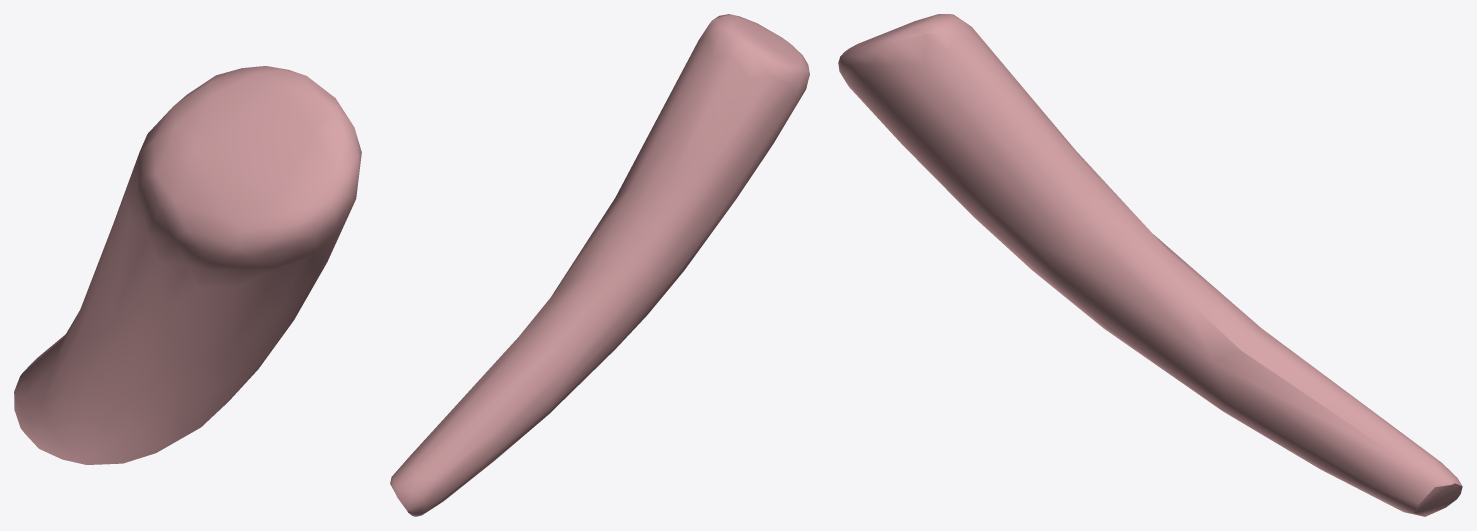
File: fma68220_fj6557.glb
3 renders of one model, left to right at view 1: azimuth 30°, elevation 25°; view 2: azimuth 150°, elevation 25°; view 3: azimuth 270°, elevation 25°, orthographic. The views are drawn at different scales.
Visible parts, largest first — view 1: FMA68220_FJ6557; view 2: FMA68220_FJ6557; view 3: FMA68220_FJ6557.
Part boxes in pixels (<box>): FMA68220_FJ6557: <box>14,66,361,464</box>; FMA68220_FJ6557: <box>390,14,809,516</box>; FMA68220_FJ6557: <box>838,14,1462,516</box>.
Size of the model in its own units: 0.00588 by 0.0106 by 0.0138.
